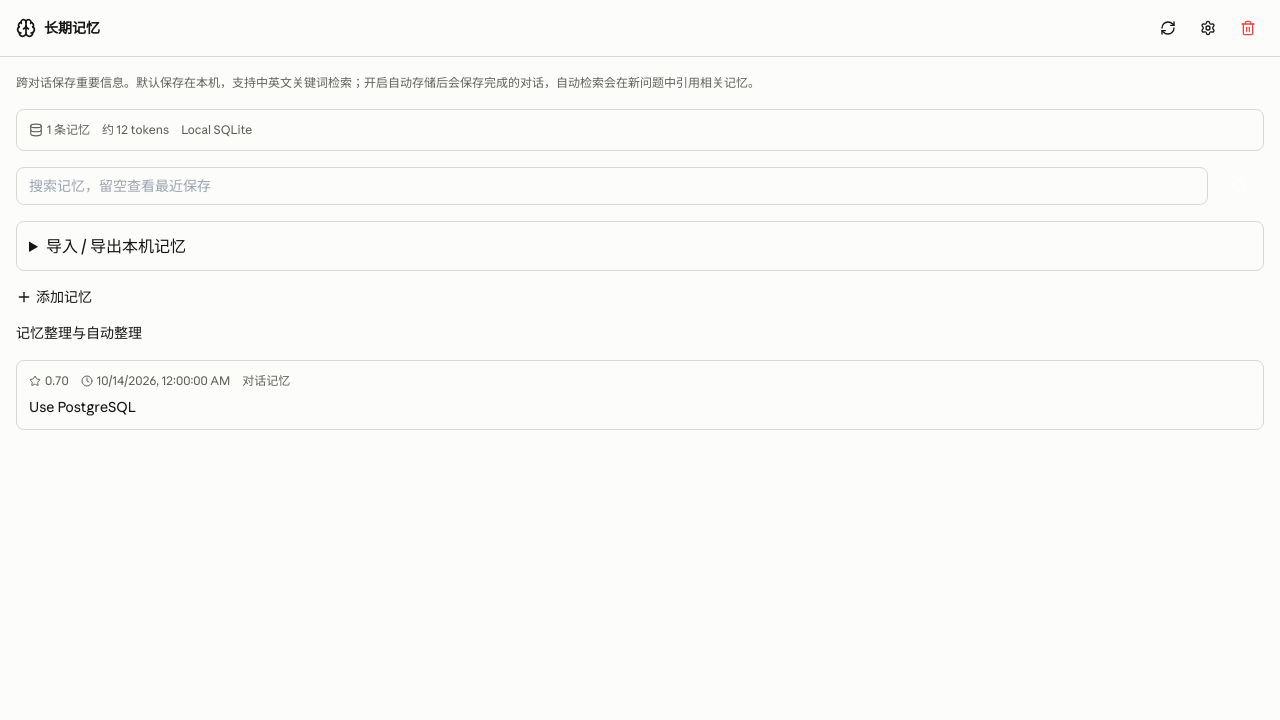
Scenario: long-term memory management › keeps existing memories visible and reports a failed clear
Expected: the text "Use PostgreSQL" is shown, [29,398,136,416]
Step 1. Click the button named "清空记忆" → {"x": 1248, "y": 28}, box [1232,12,1264,44]
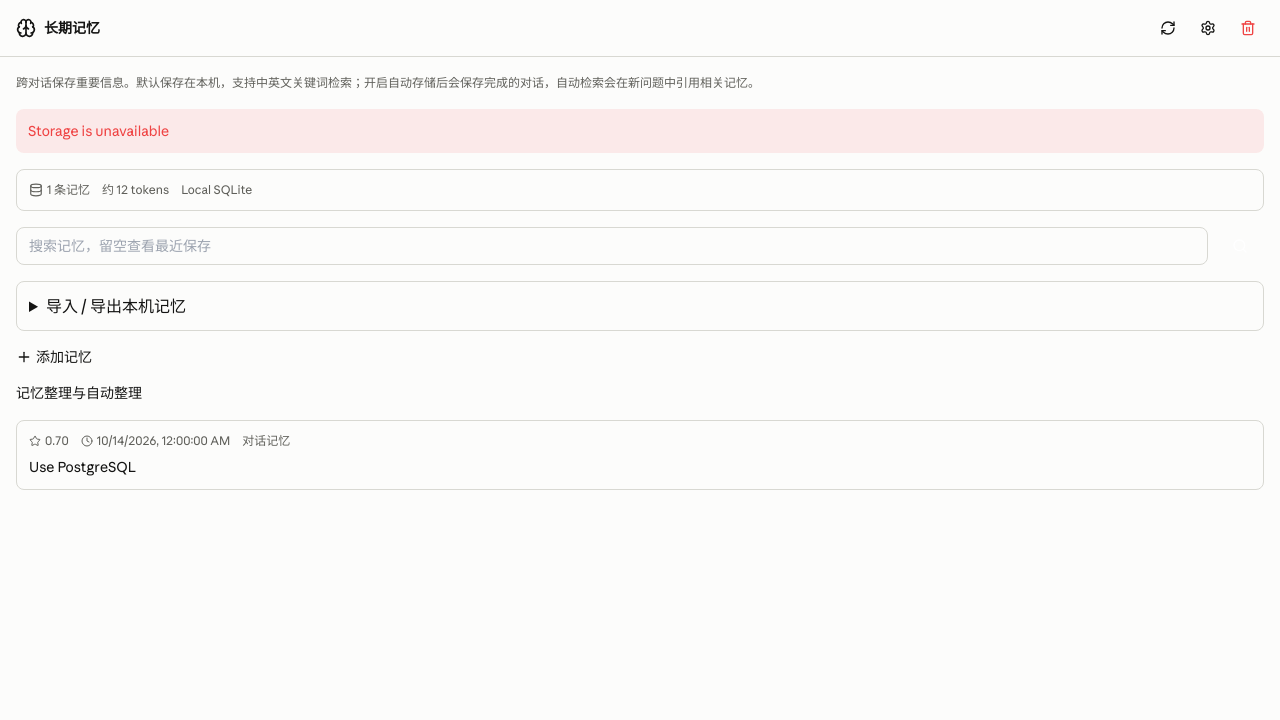
Expected: the text "Use PostgreSQL" is shown, [29,458,136,476]
Result: the message reads "Storage is unavailable" at [28,122,169,140]
